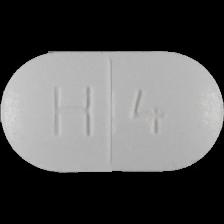53808-1045: (0, 0, 224, 224)
